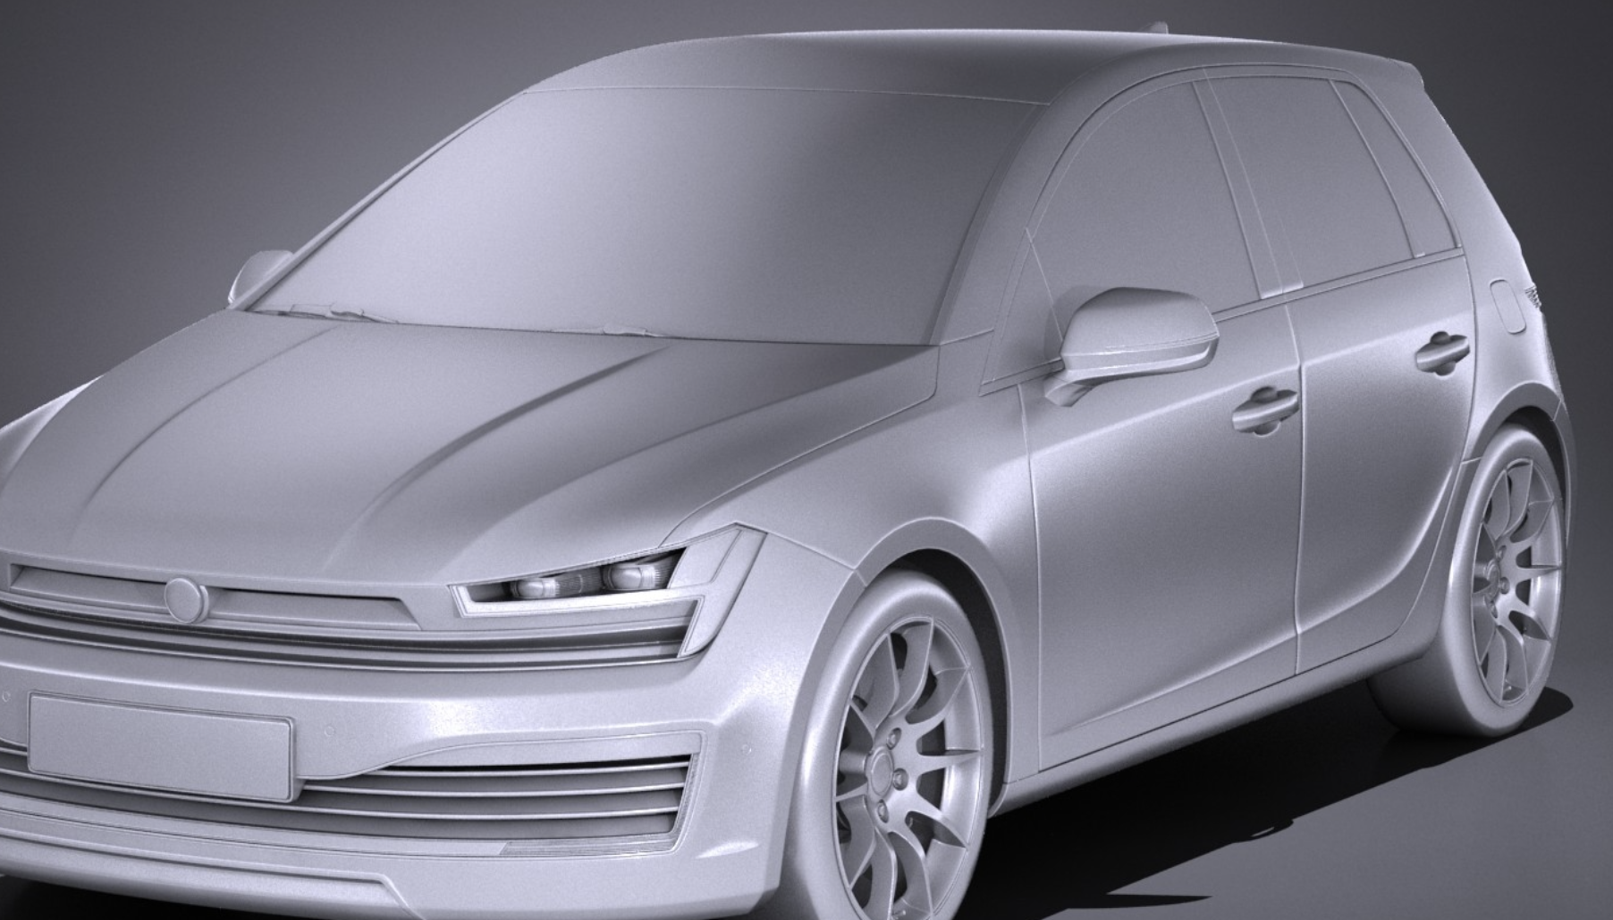hatch: (1484, 276, 1533, 338)
